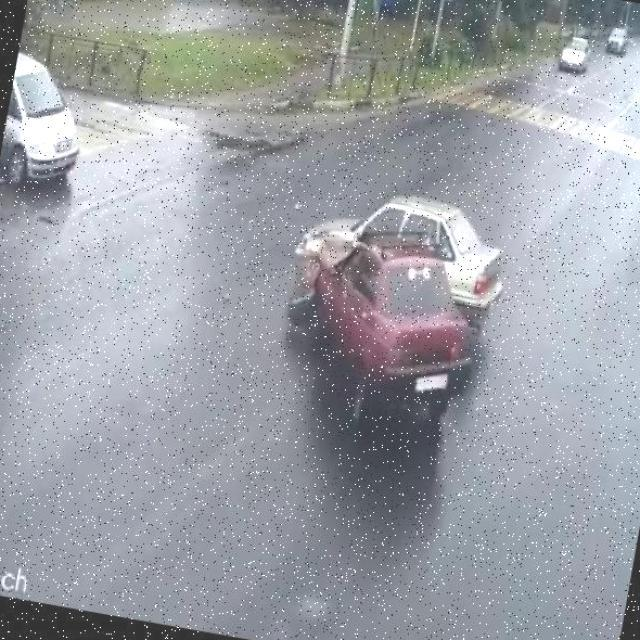accident: (255, 171, 433, 342)
